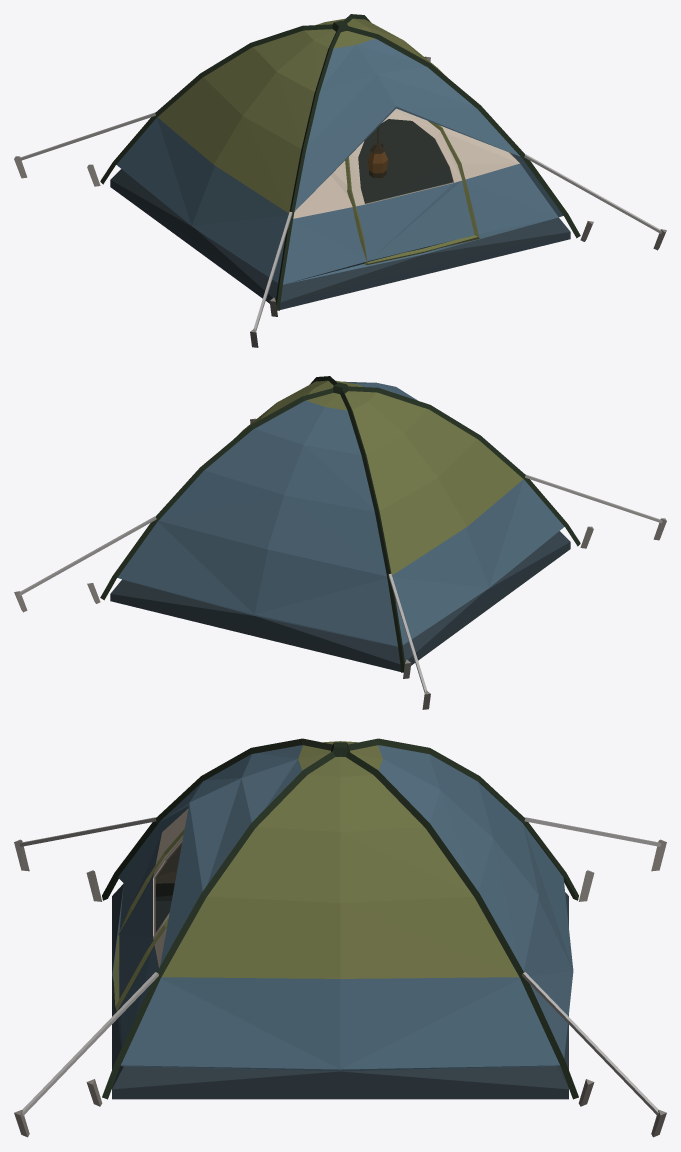
The model's file is dome-tent-9ee59d.glb.
The picture shows the model from 3 angles, top to bottom: view 1: azimuth 30°, elevation 25°; view 2: azimuth 150°, elevation 25°; view 3: azimuth 270°, elevation 25°; orthographic projection. The views are drawn at different scales.
Visible parts, largest first — view 1: tent, door-mesh; view 2: tent; view 3: tent, door-mesh.
Boxes of the visible parts, bbox=[...] form: tent: bbox=[14, 14, 666, 347]; door-mesh: bbox=[358, 119, 453, 203]; tent: bbox=[14, 376, 666, 709]; tent: bbox=[14, 738, 666, 1137]; door-mesh: bbox=[154, 842, 182, 934].
Bounding box in the file's own units: 3 × 1.31 × 3.
